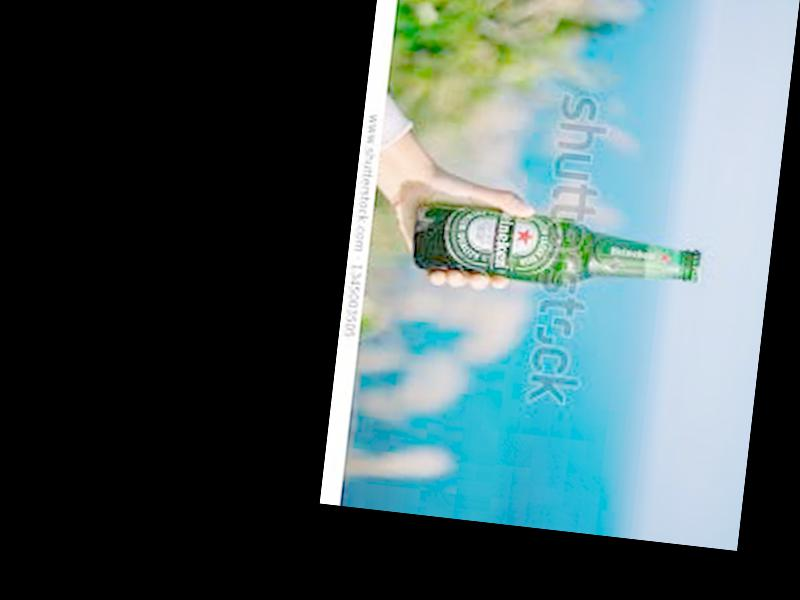Beer: (409, 199, 705, 300)
